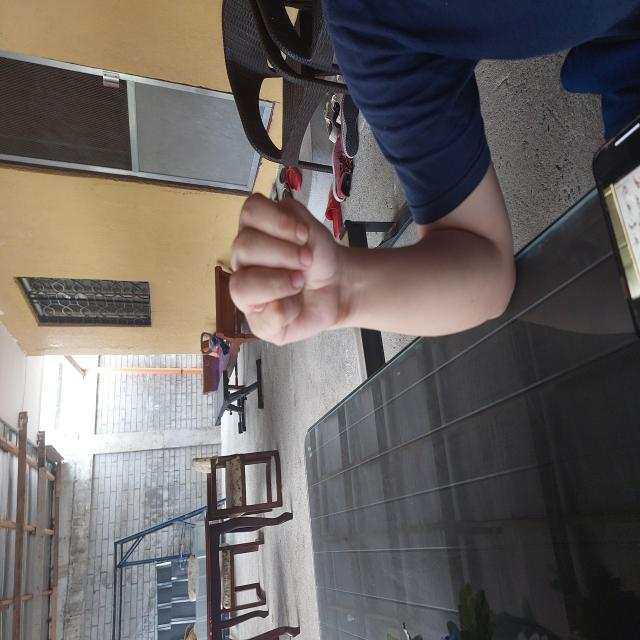M: (205, 176, 368, 355)
